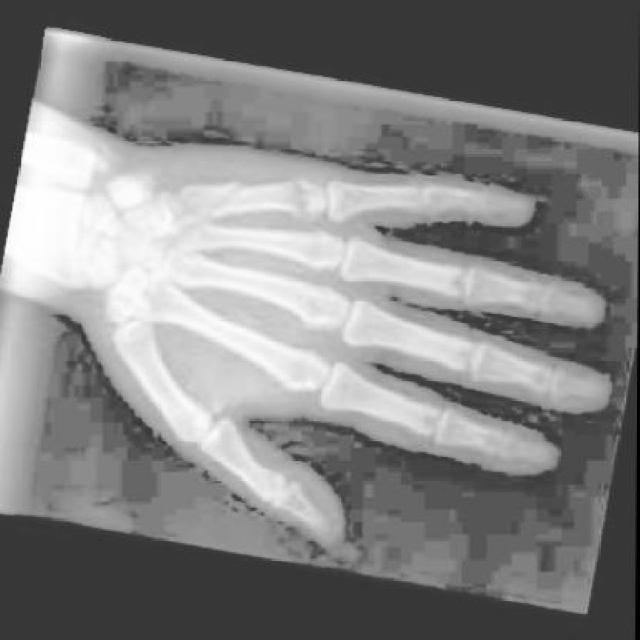Fracture: (186, 162, 245, 221), (277, 169, 333, 226)
